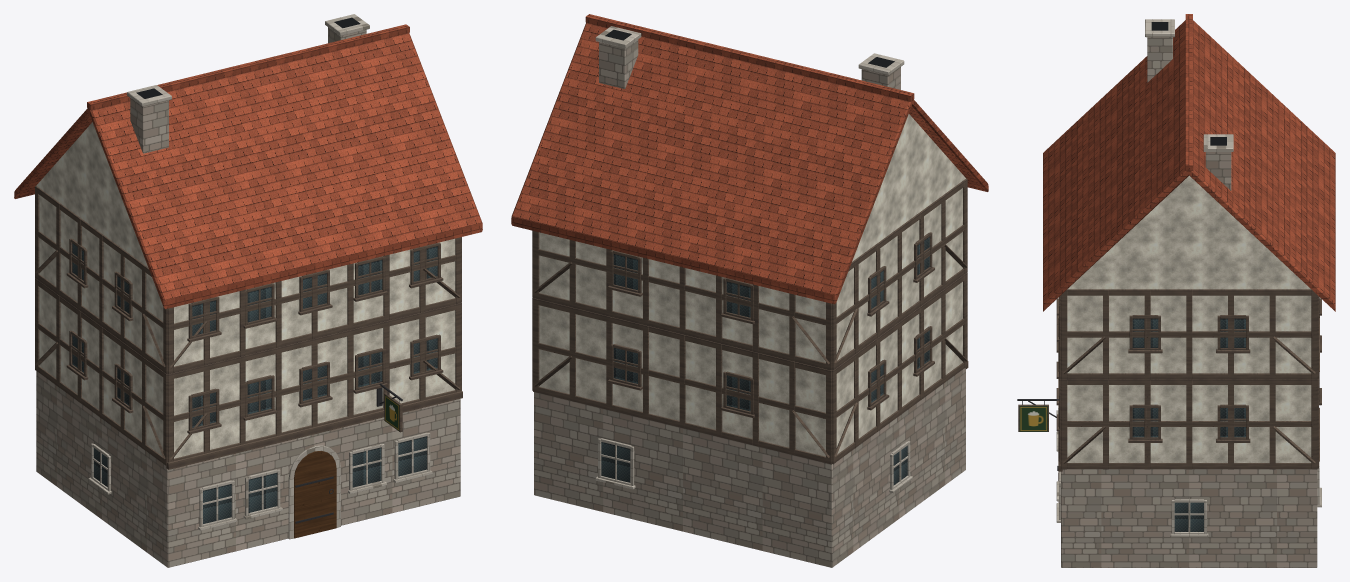
The model's file is village-inn.glb.
3 renders of one model, left to right at view 1: azimuth 30°, elevation 25°; view 2: azimuth 150°, elevation 25°; view 3: azimuth 270°, elevation 25°, orthographic. The views are drawn at different scales.
Parts seen in each view (by area): view 1: Village_Inn; view 2: Village_Inn; view 3: Village_Inn, Inn_Sign.
Part boxes in pixels (x1=…): Village_Inn: x1=14, y1=14, x2=482, y2=567; Village_Inn: x1=511, y1=14, x2=988, y2=567; Village_Inn: x1=1017, y1=14, x2=1335, y2=567; Inn_Sign: x1=1018, y1=401, x2=1048, y2=431.
Bounding box in the file's own units: 9.8 × 12.61 × 8.7.
10 materials, 8 textured.
